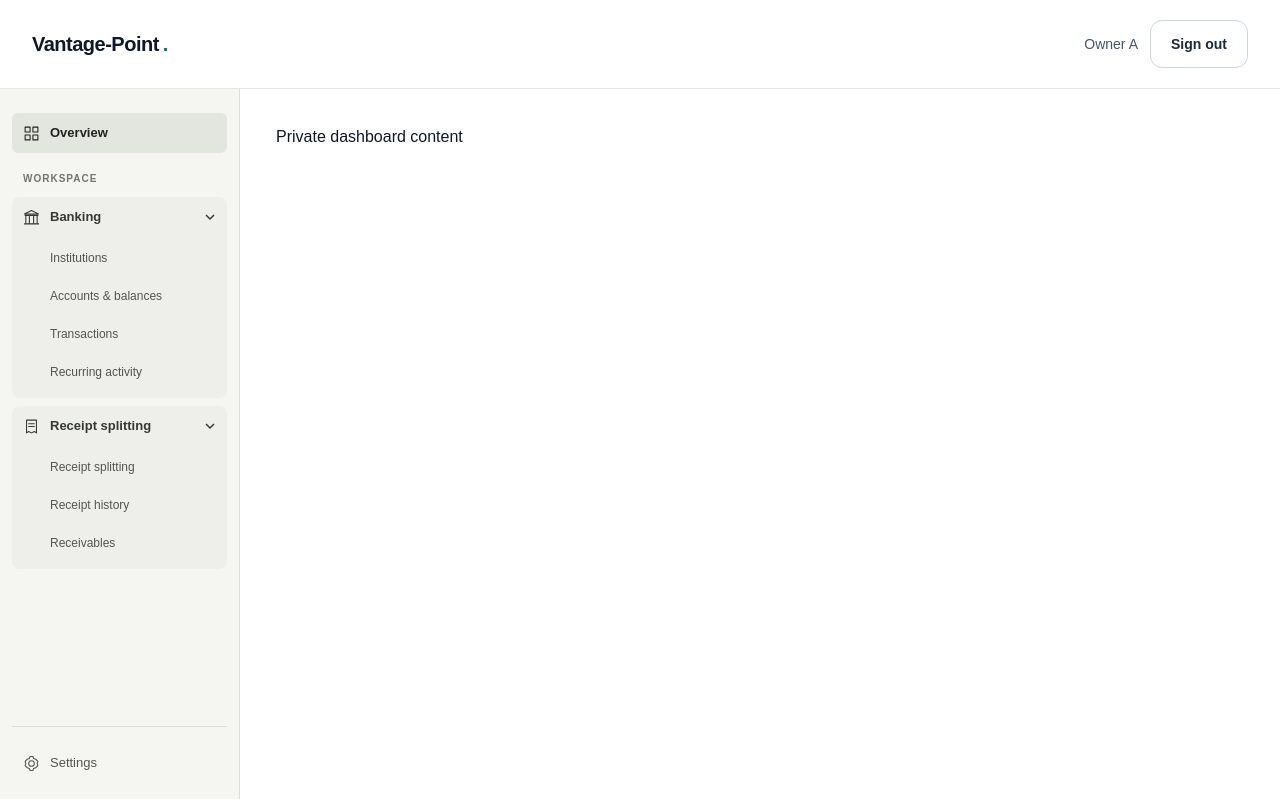
deduplicates sign out and removes private content after success
Check: the text "Owner A" is shown, box 1084,34 -> 1138,54
What coordinates should you click on to do the following:
click the button "Sign out"
I would click on:
 (1199, 44)
Its box is 1150,20 -> 1248,68.
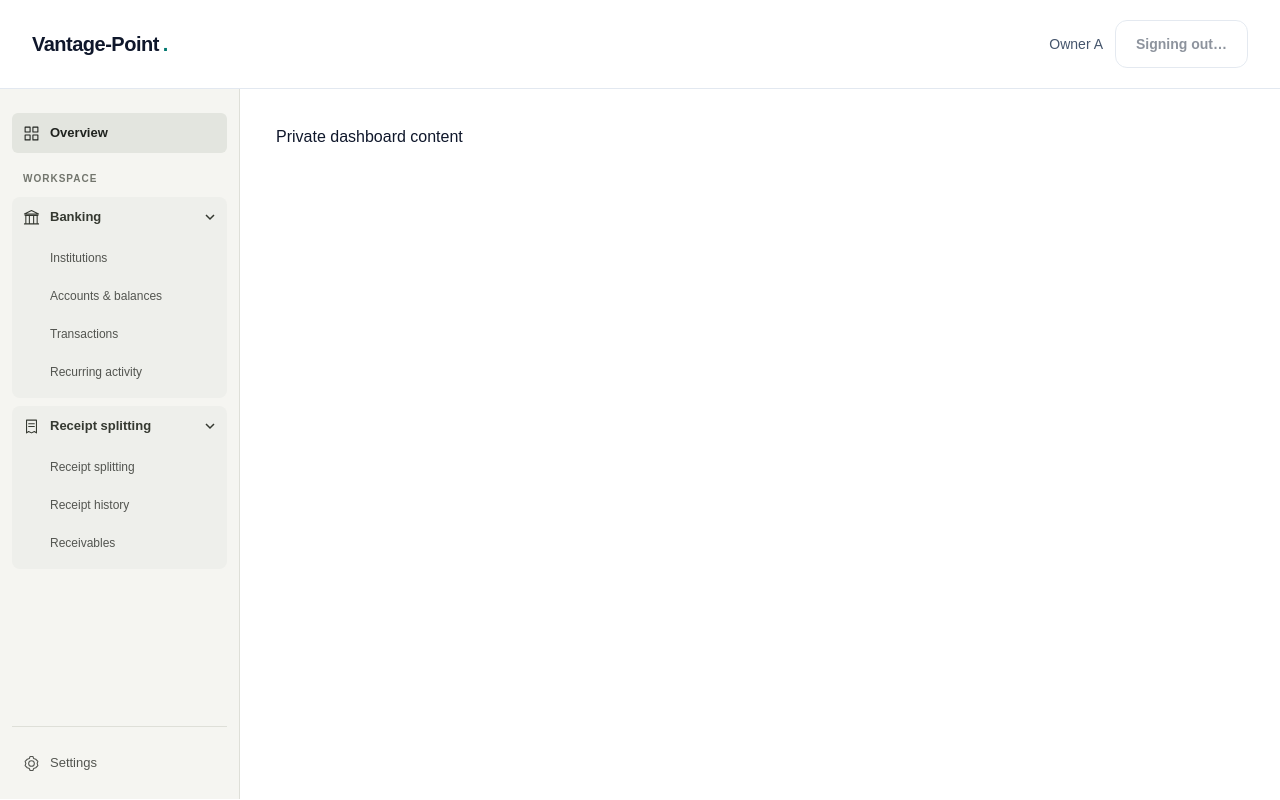
What coordinates should you click on to do the following:
click the button "Signing out…"
I would click on:
 (1182, 44)
Its box is 1115,20 -> 1248,68.
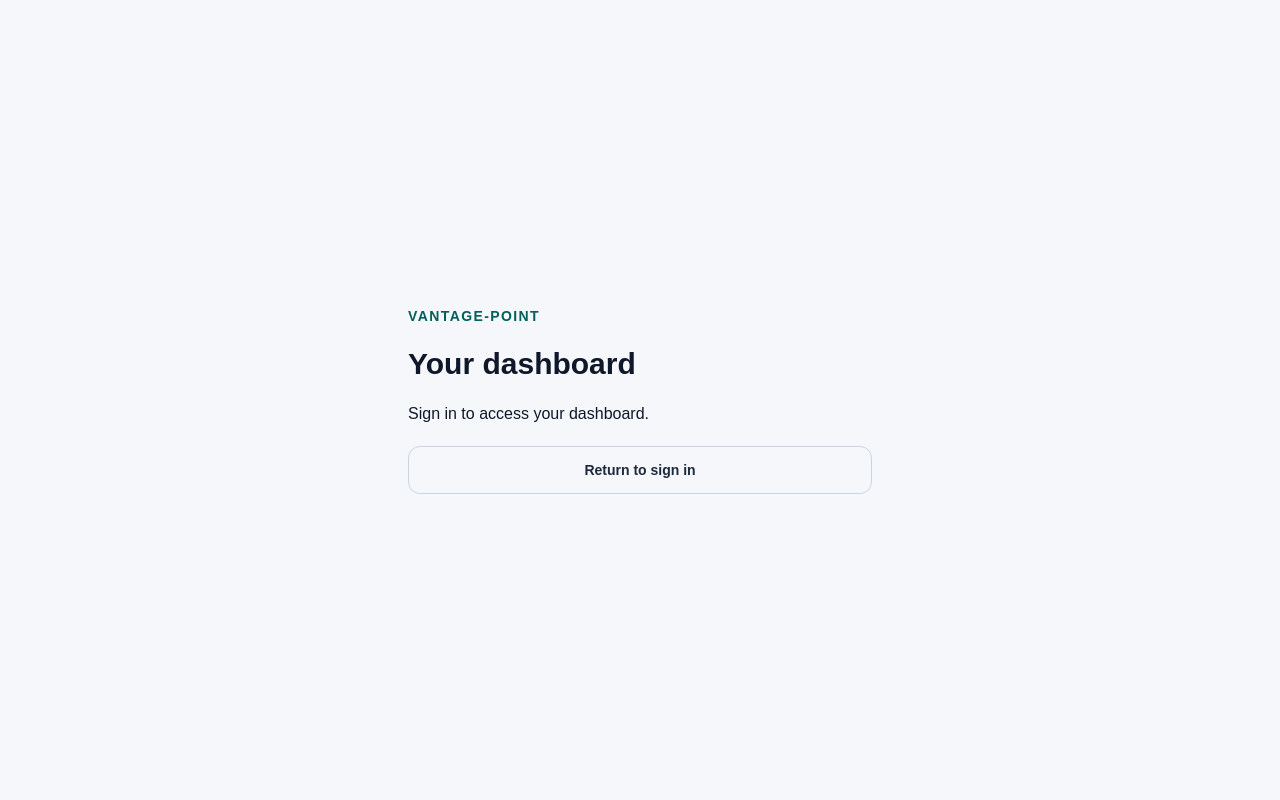
Check: the text "Sign in to access your dashboard." is shown, box 408,405 -> 649,422
Check: the heading "Private dashboard content" is gone
